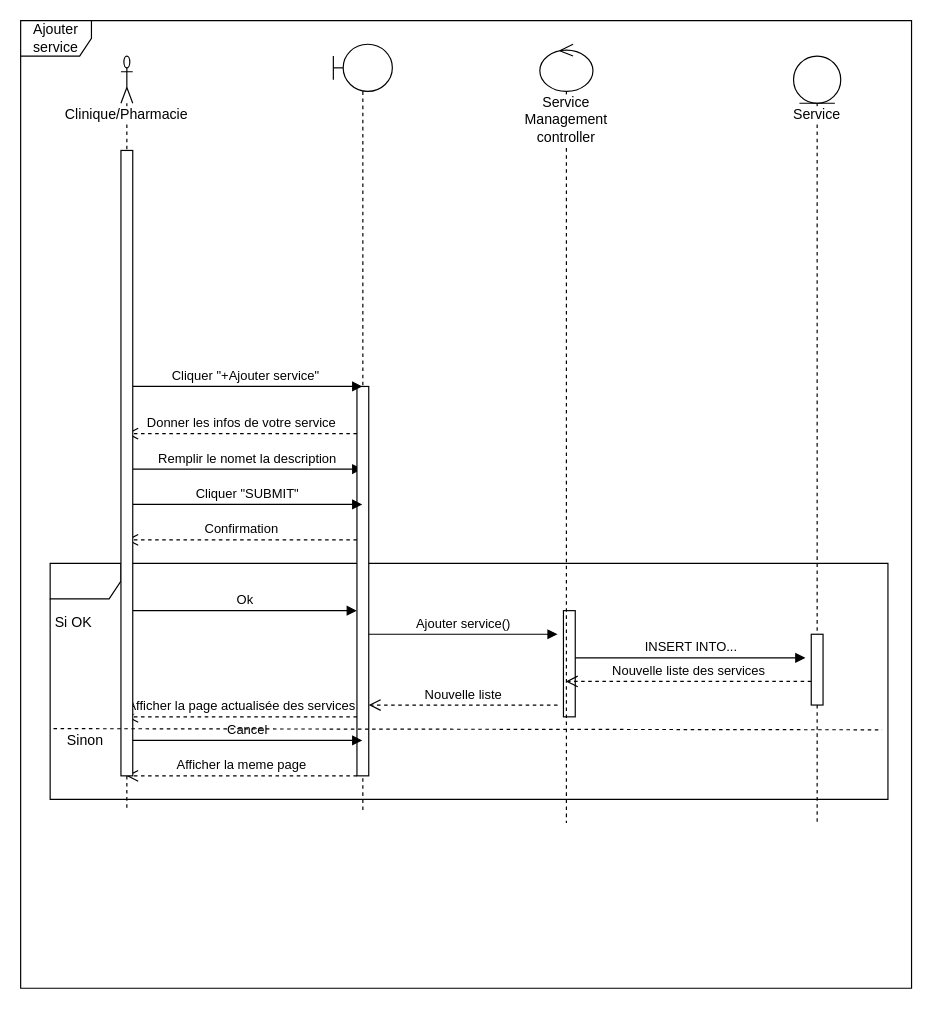
Image size: 932x1009. Some labels were removed from this diagram. The box of each missing label's shape, as (x1, y1, x2, y2) in pixels:
alt: (49, 562, 888, 799)
Service Management: (332, 43, 392, 811)
